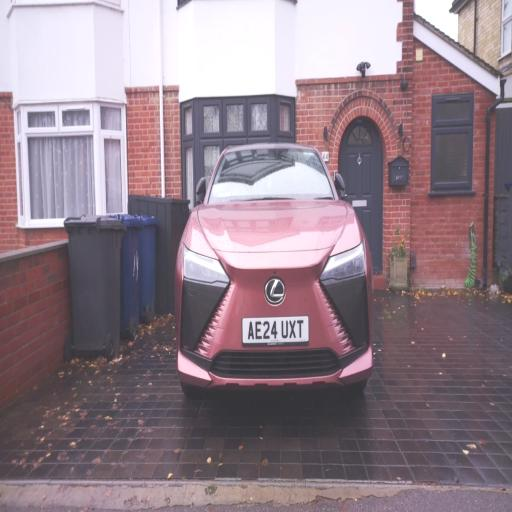numberplates: (243, 317, 308, 345)
